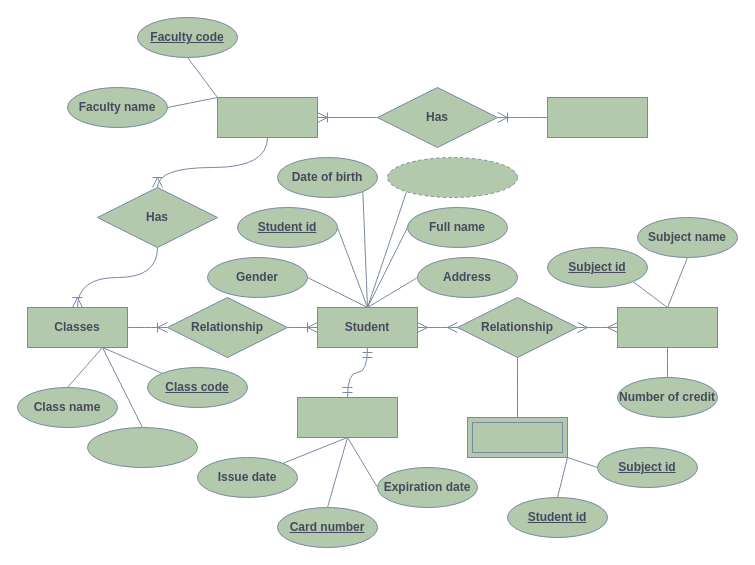
This 755x565 diagram has some shape labels left out. Here are the shapes that lost their labels. From the top down, the box of each, then its label:
(216, 96, 318, 138): Faculty
(546, 96, 648, 138): University
(386, 156, 518, 198): Graduation point
(616, 306, 718, 348): Subjects
(296, 396, 398, 438): Library cards
(466, 416, 568, 458): Exam score
(86, 426, 198, 468): Wholesale number
